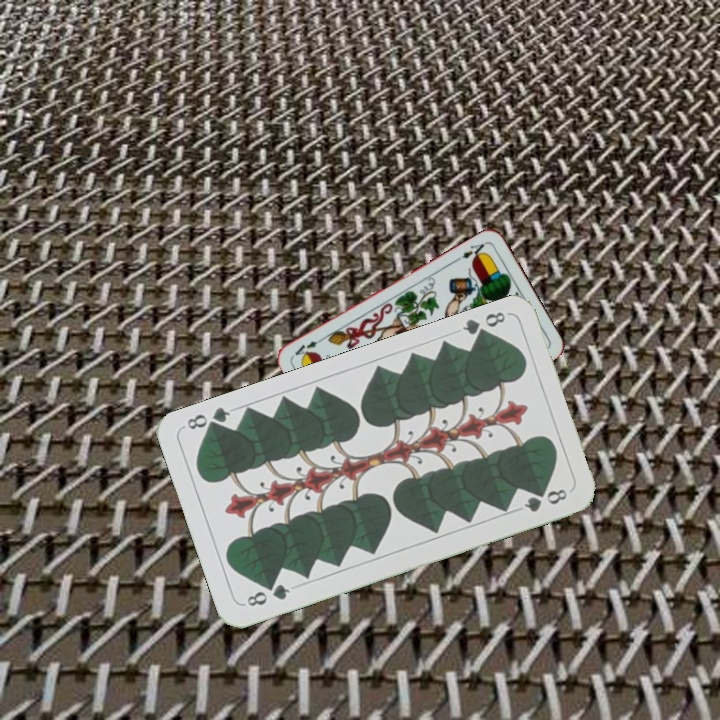EA: (452, 238, 489, 264)
G8: (458, 307, 508, 343), (242, 580, 293, 609)
